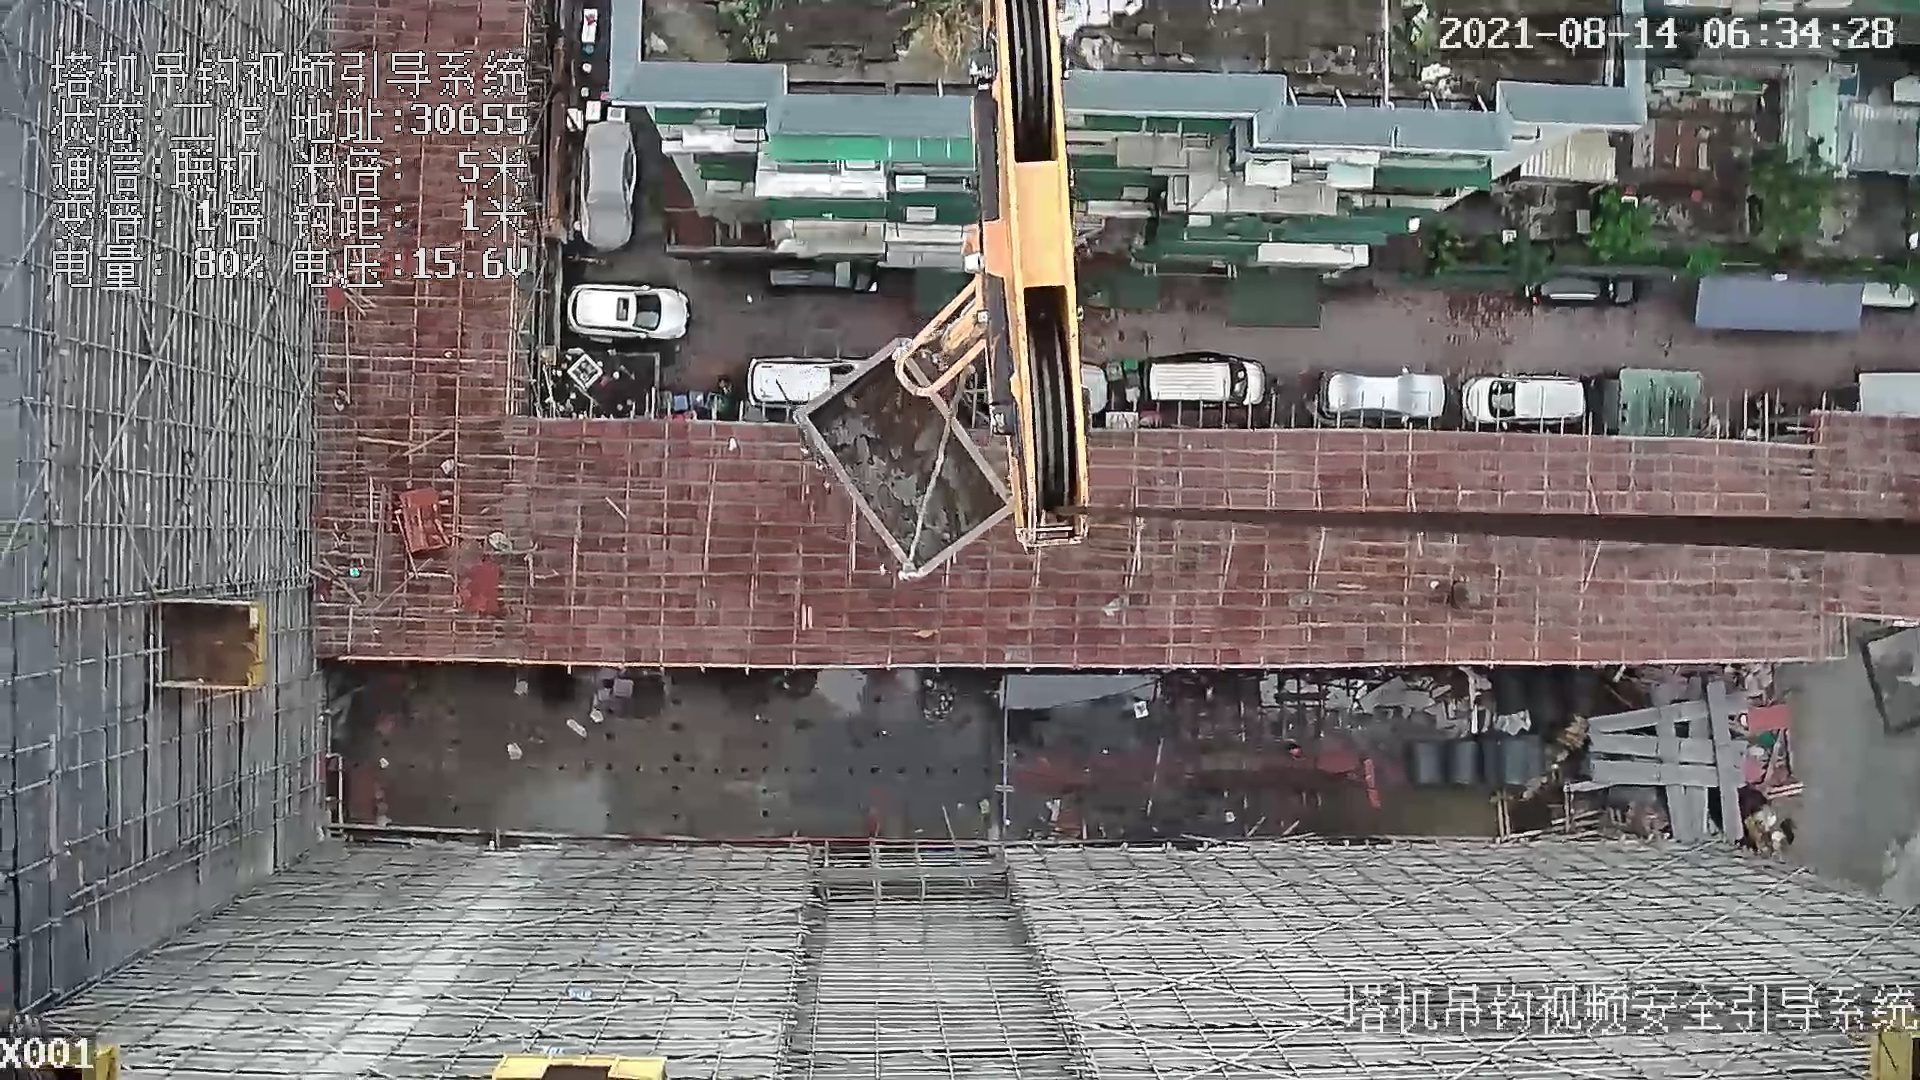hook: (899, 1, 1087, 545)
hopper: (790, 318, 1021, 607)
